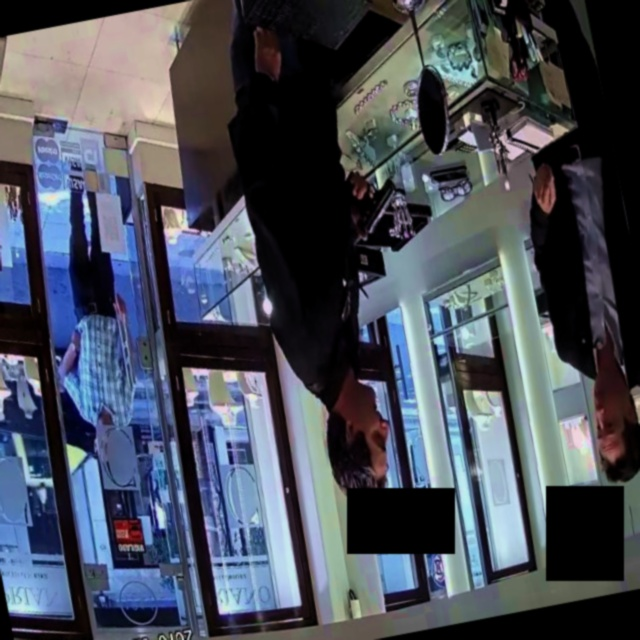gun: (337, 143, 419, 261)
